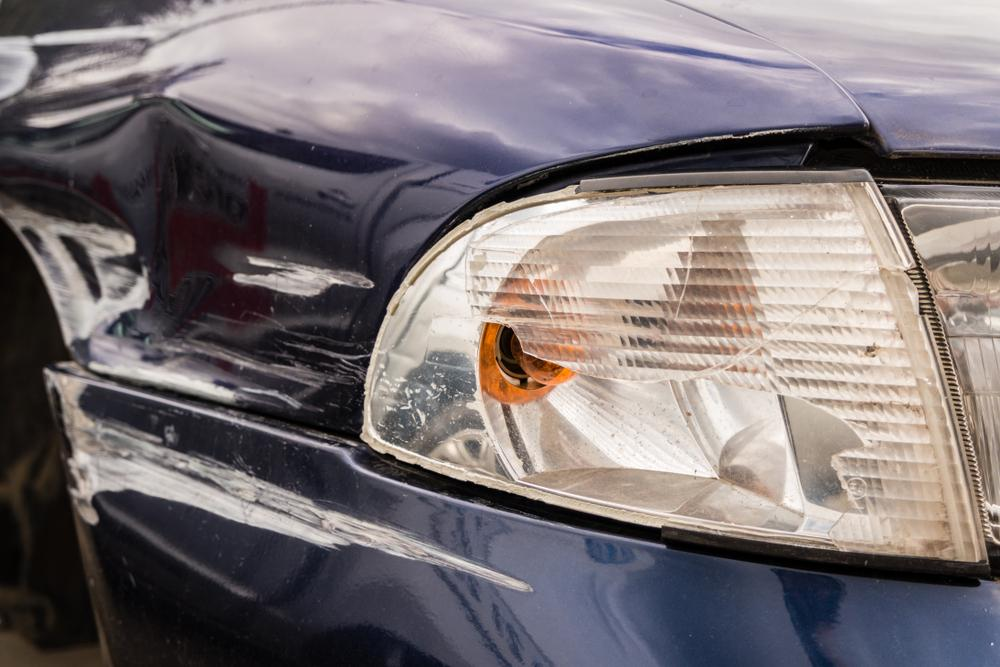dent: (0, 111, 368, 413)
lamp broken: (358, 175, 990, 565)
scratch: (49, 370, 539, 596)
